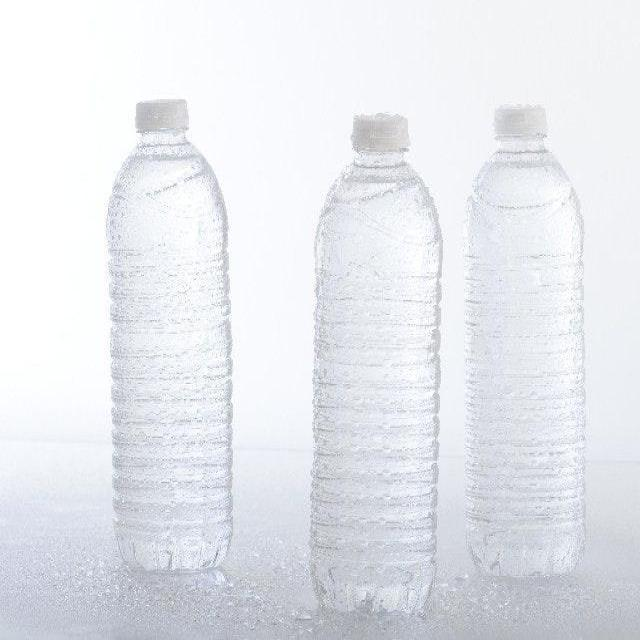bottle: (457, 101, 594, 584), (311, 111, 441, 618), (105, 93, 237, 575)
